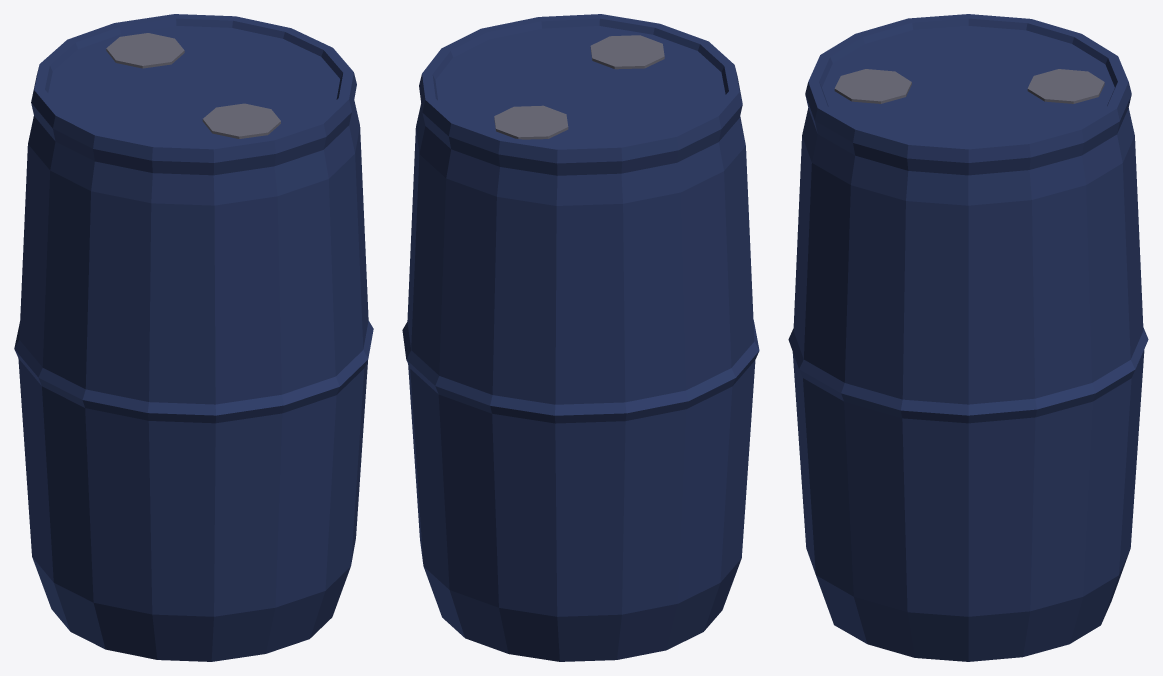
File: Water_Barrel.fbx
3 renders of one model, left to right at view 1: azimuth 30°, elevation 25°; view 2: azimuth 150°, elevation 25°; view 3: azimuth 270°, elevation 25°, orthographic.
Parts seen in each view (by area): view 1: Water_Barrel; view 2: Water_Barrel; view 3: Water_Barrel.
Boxes of the visible parts, left/top/right/bottom form: Water_Barrel: left=14, top=14, right=373, bottom=661; Water_Barrel: left=402, top=14, right=759, bottom=661; Water_Barrel: left=788, top=14, right=1148, bottom=661.
Bounding box in the file's own units: 0.6174 × 0.9834 × 0.6174.
